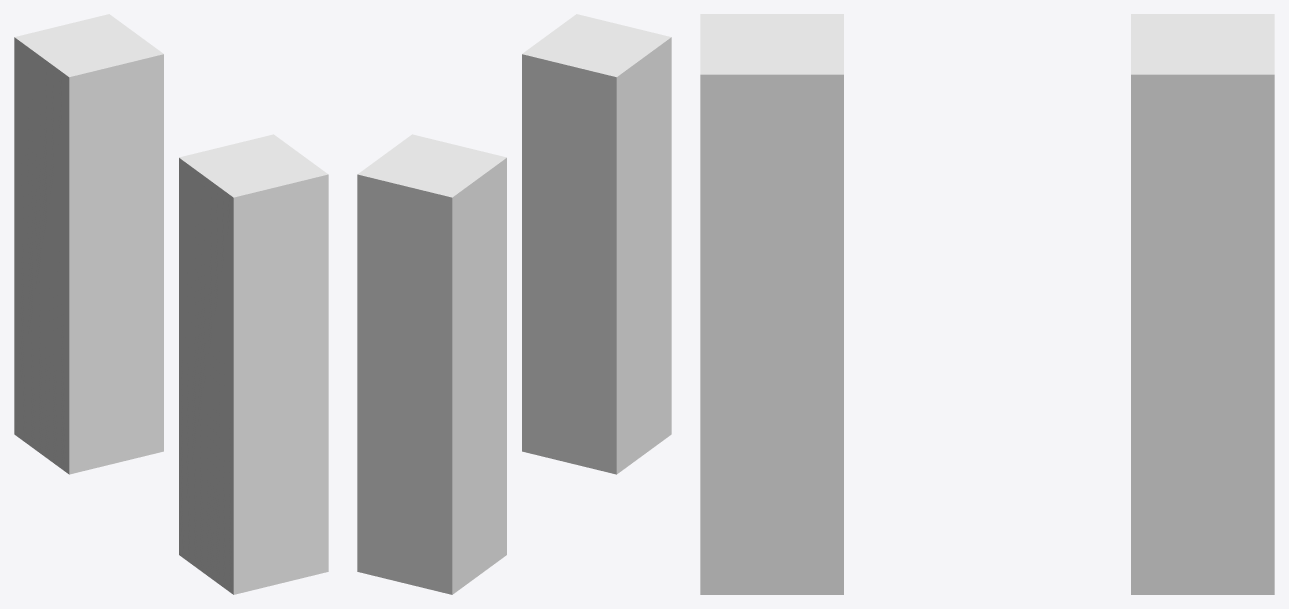
The model's file is dents.dae.
3 renders of one model, left to right at view 1: azimuth 30°, elevation 25°; view 2: azimuth 150°, elevation 25°; view 3: azimuth 270°, elevation 25°, orthographic. The views are drawn at different scales.
Visible parts, largest first — view 1: Cuboid_46; view 2: Cuboid_46; view 3: Cuboid_46.
Boxes of the visible parts, box(x1,y1,x2,y2) form: Cuboid_46: box(14, 14, 328, 594); Cuboid_46: box(357, 14, 671, 594); Cuboid_46: box(700, 14, 1274, 594).
Bounding box in the file's own units: 1 × 4 × 4.
Materials: 1 (1 with a texture image).
